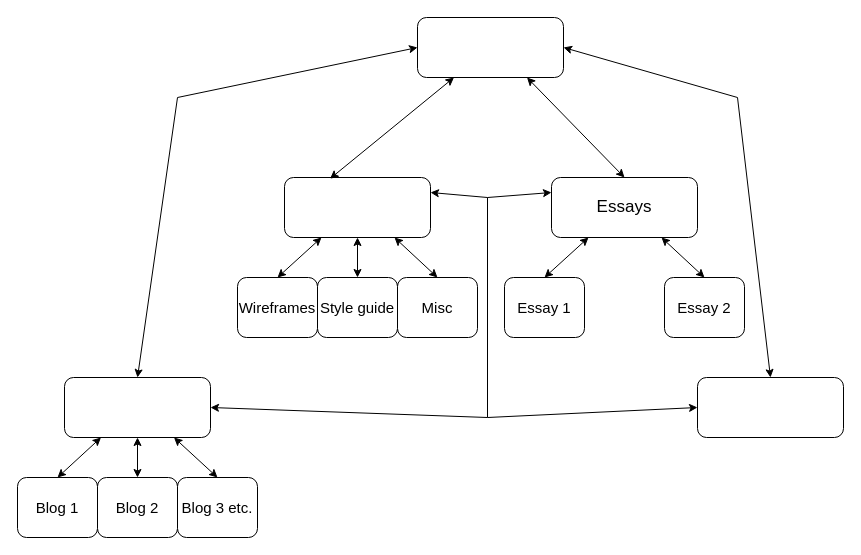
Some shapes in this 861 by 555 pixel diagram are drawn without their labels. Each missing label, with the box of its shape:
Blogs: (64, 376, 210, 438)
Design: (284, 176, 430, 238)
Home page/Portfolio User starts here: (416, 16, 564, 78)
Profile: (696, 376, 844, 438)
